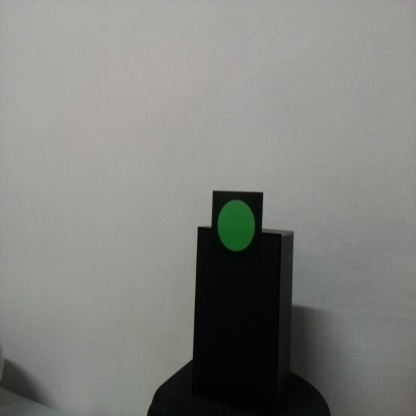id_5: (212, 190, 263, 276)
